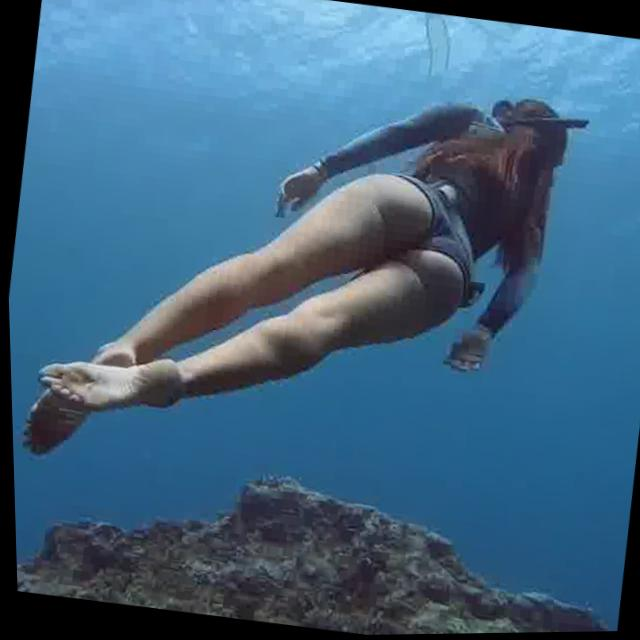human: (1, 21, 600, 543)
